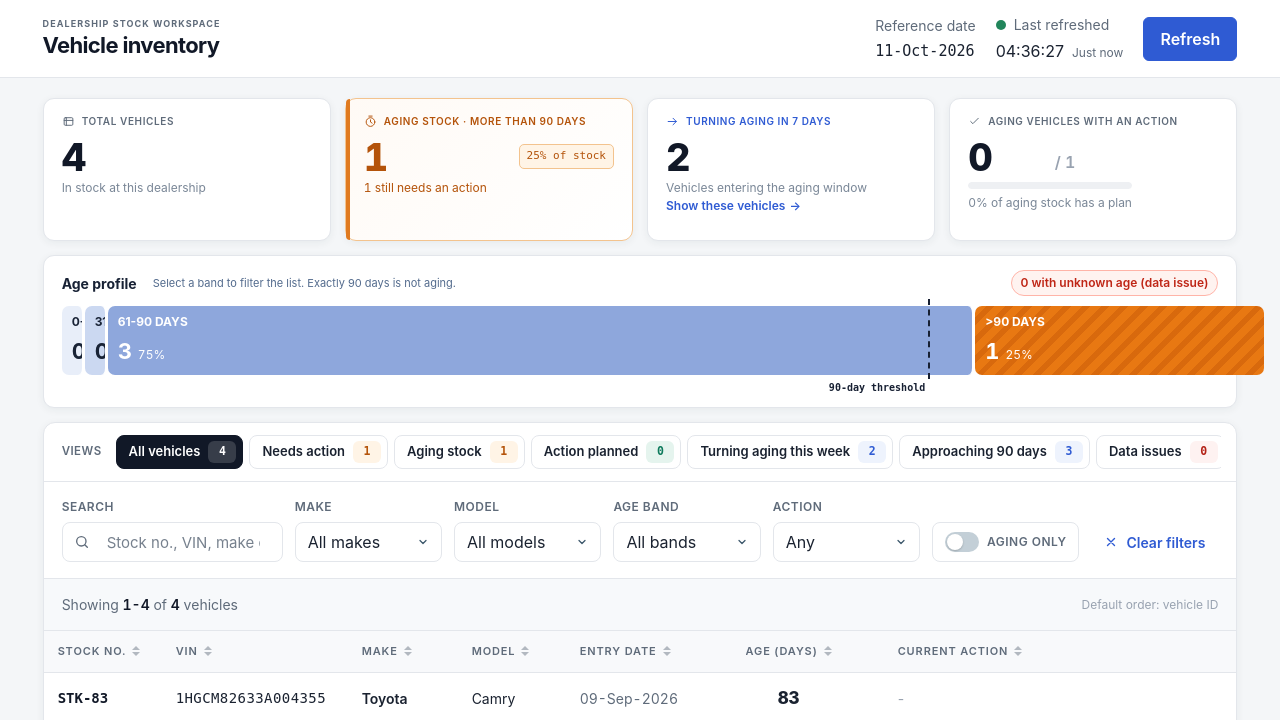
Test: App › toggles the early-warning summary card to filter matching ages and due tags
What coordinates should you click on to do the following:
click the button "Show these vehicles →"
I would click on:
 (733, 206)
Its box is left=666, top=197, right=801, bottom=215.
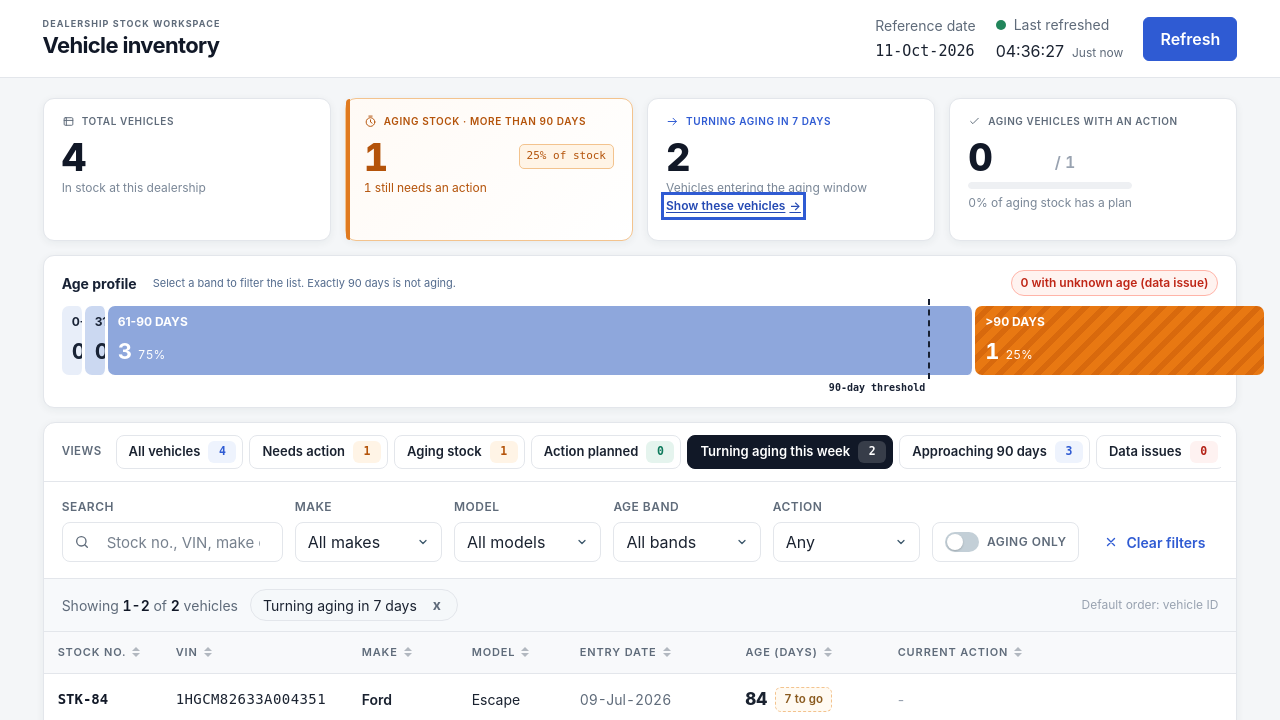
Result: the message shows "Showing 1-2 of 2" at left=62, top=594, right=238, bottom=616
Result: the button named "Remove Turning aging in 7 days filter" is shown at left=425, top=593, right=449, bottom=617
What coordinates should you click on to do the following:
click the button "Show these vehicles →"
I would click on:
 (733, 206)
Its box is left=666, top=197, right=801, bottom=215.
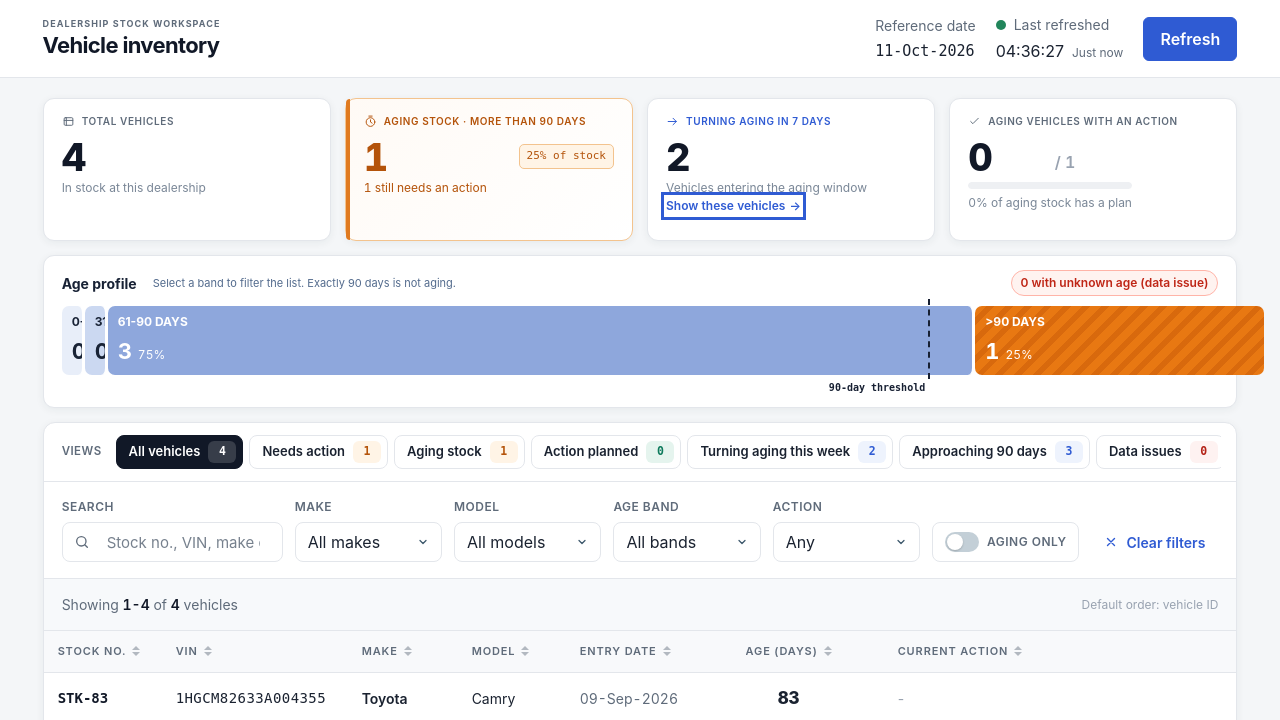
Result: the message shows "Showing 1-4 of 4" at left=62, top=594, right=238, bottom=615
